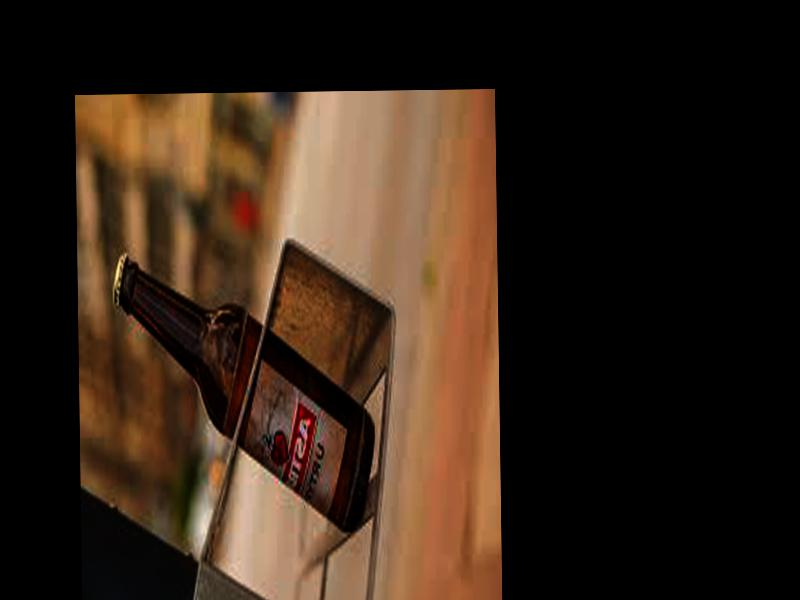Beer: (111, 247, 376, 538)
